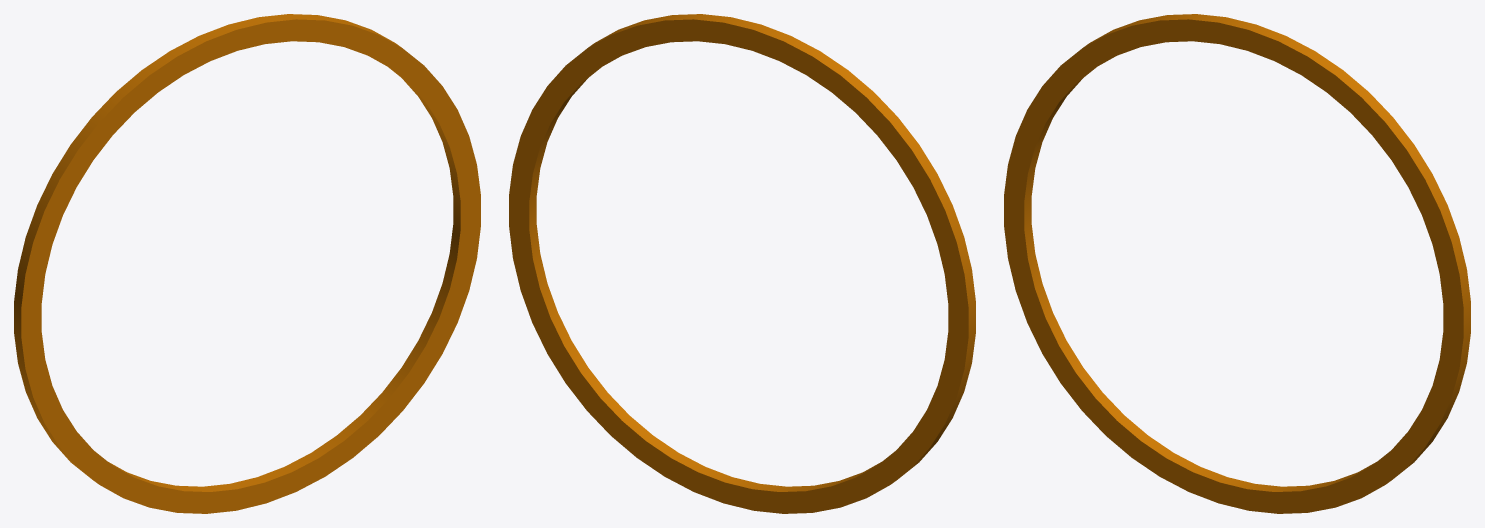
File: Ring_Three.fbx
The picture shows the model from 3 angles, left to right: view 1: azimuth 30°, elevation 25°; view 2: azimuth 150°, elevation 25°; view 3: azimuth 330°, elevation 25°; orthographic projection.
Parts seen in each view (by area): view 1: Ring_Three; view 2: Ring_Three; view 3: Ring_Three.
Part boxes in pixels (<box>): Ring_Three: <box>14,14,480,513</box>; Ring_Three: <box>509,14,975,513</box>; Ring_Three: <box>1004,14,1470,513</box>.
Size of the model in its own units: 107 by 3 by 107.
